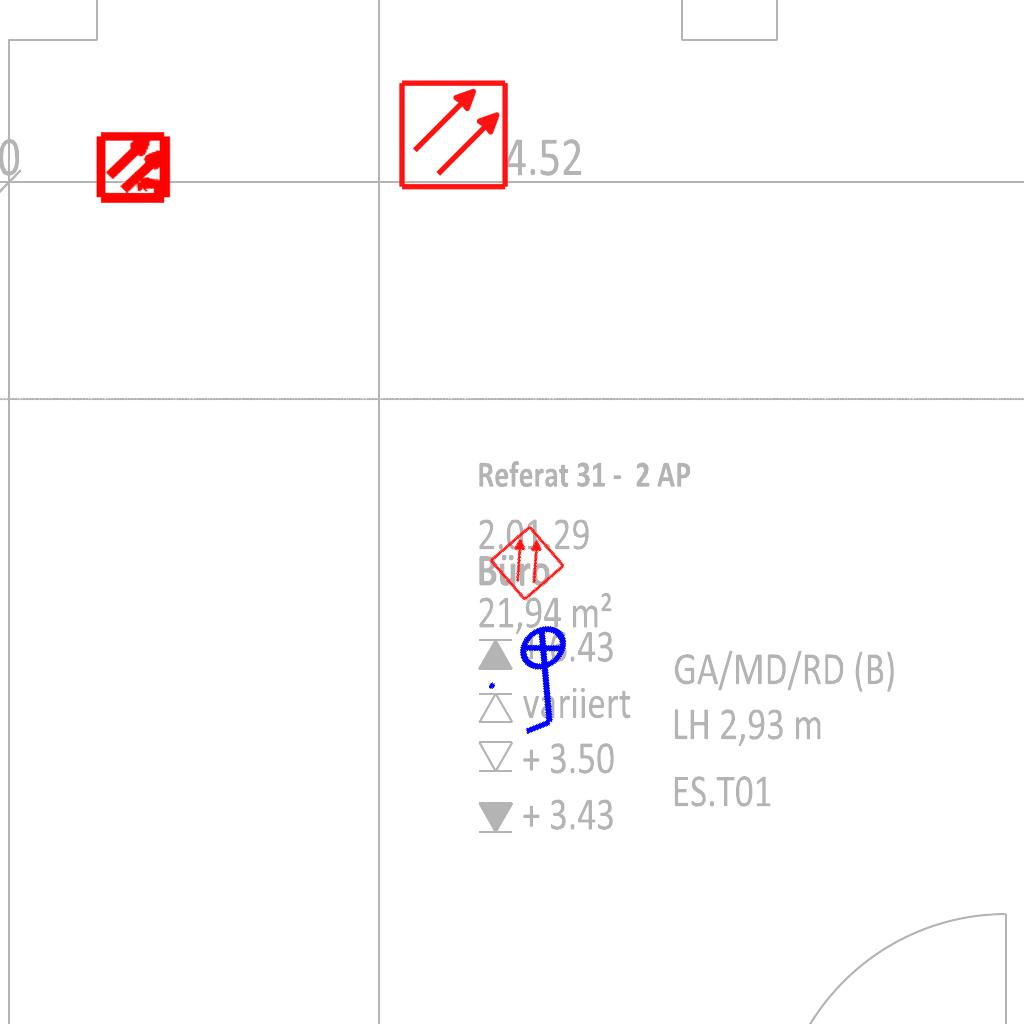Ausschalter_beleuchtet: (471, 606, 619, 752)
OT_Multisensormelder_(Kombination_RMO_WMD): (79, 111, 192, 224)
RMO_Rauchmelder_optischer: (397, 78, 510, 191), (487, 523, 567, 603)
